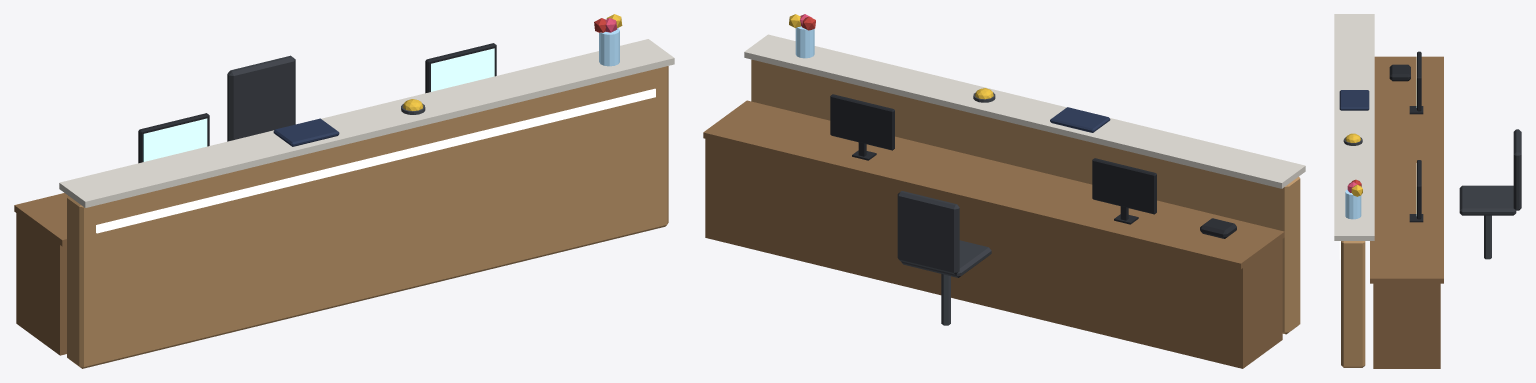
Rendered from reception_desk.glb.
The picture shows the model from 3 angles, left to right: view 1: azimuth 30°, elevation 25°; view 2: azimuth 150°, elevation 25°; view 3: azimuth 270°, elevation 25°; orthographic projection. The views are drawn at different scales.
Visible parts, largest first — view 1: reception_desk_mesh; view 2: reception_desk_mesh; view 3: reception_desk_mesh.
Part boxes in pixels (x1=…): reception_desk_mesh: x1=14, y1=14, x2=674, y2=368; reception_desk_mesh: x1=703, y1=14, x2=1305, y2=368; reception_desk_mesh: x1=1334, y1=14, x2=1521, y2=368.
Size of the model in its own units: 3.9 by 1.37 by 1.39.
